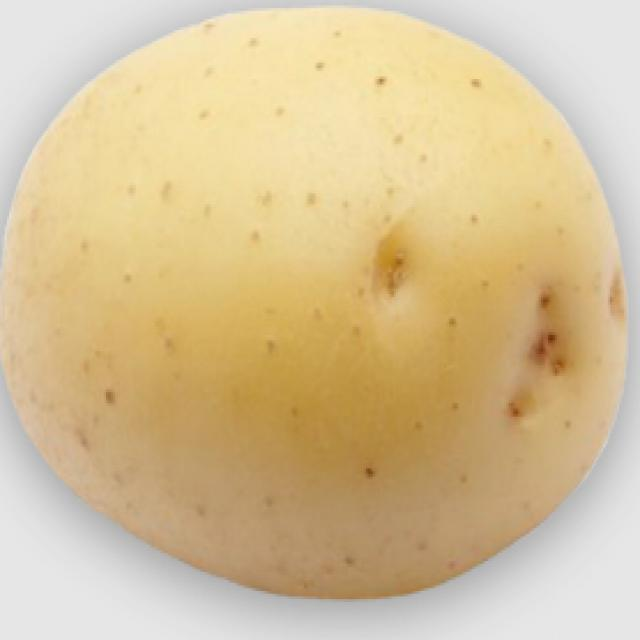potato: (9, 13, 632, 596)
